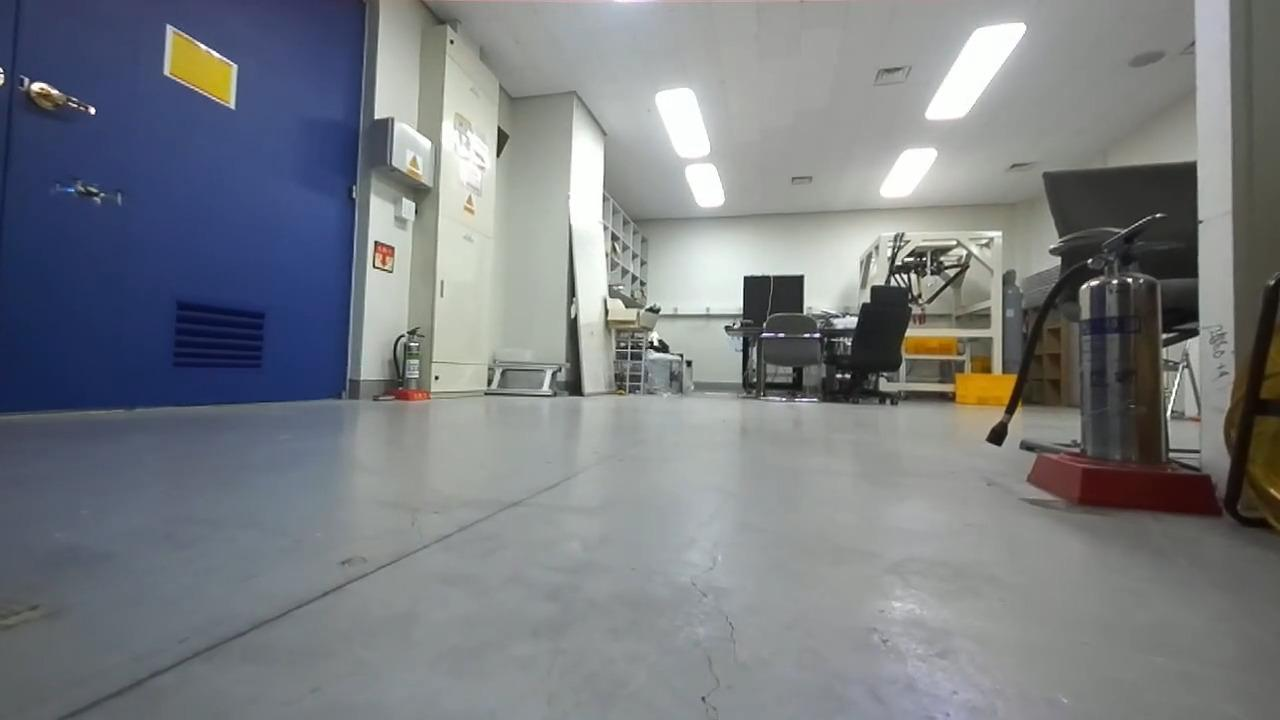crazyflie: (49, 175, 127, 210)
